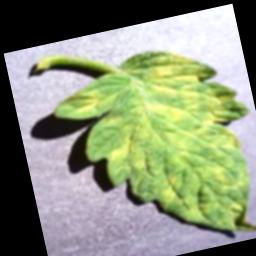Leaf_Mold: (44, 32, 256, 256)
